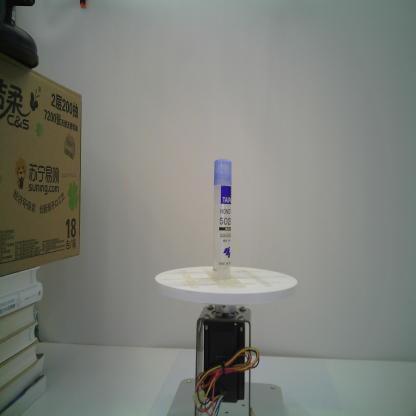Stationery: (211, 157, 233, 282)
